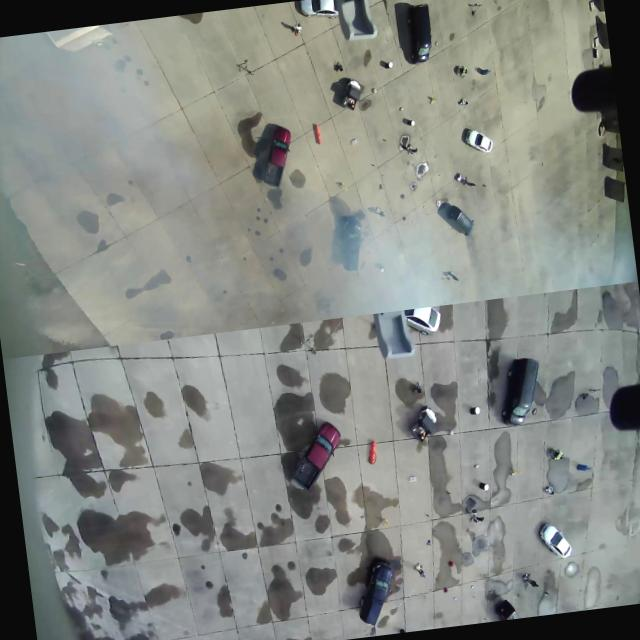car: (288, 418, 346, 491), (495, 344, 541, 428), (252, 114, 298, 196), (356, 550, 398, 632), (332, 208, 371, 278), (397, 0, 437, 66), (438, 195, 477, 242), (536, 517, 574, 558), (459, 124, 498, 160), (402, 304, 443, 336)
